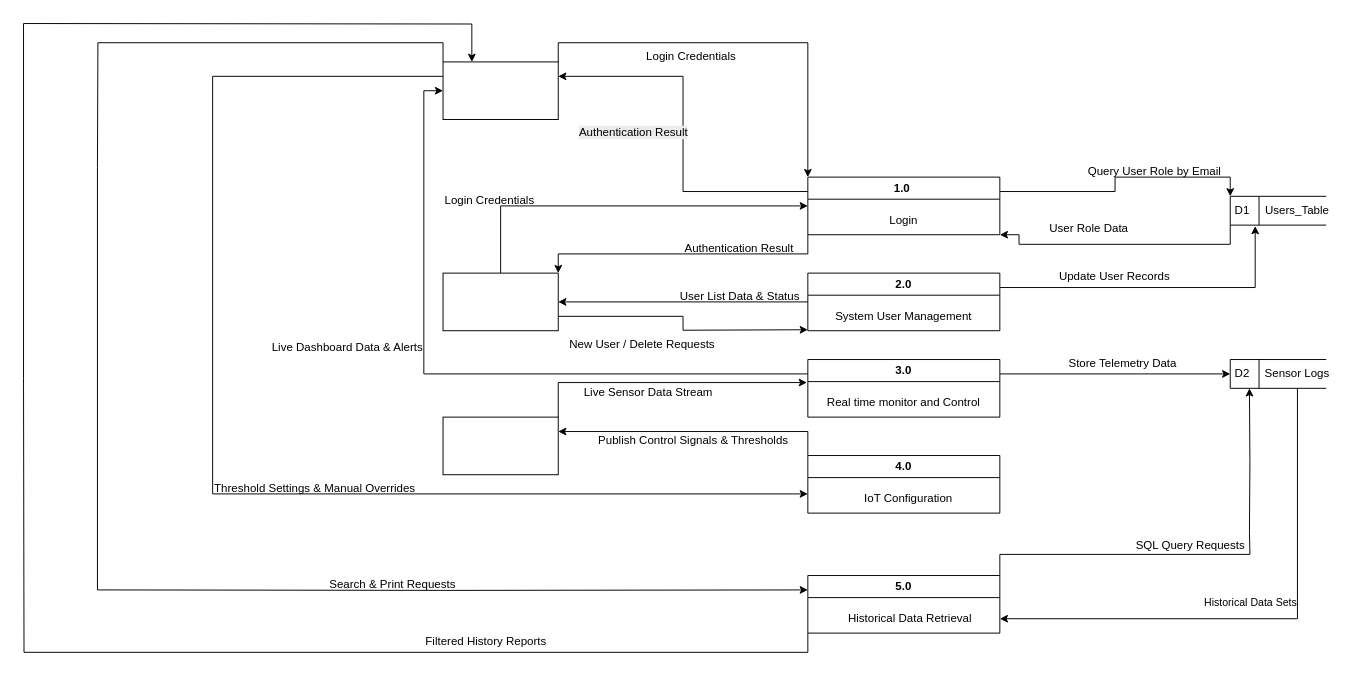
This 1362x684 diagram has some shape labels left out. The shapes that lost their labels are listed below. From the top down, each one's centre as x and y in pixels, then its label:
At pixel 500 90: "User".
At pixel 500 301: "Admin".
At pixel 500 445: "EMQX MQTT Broker".
